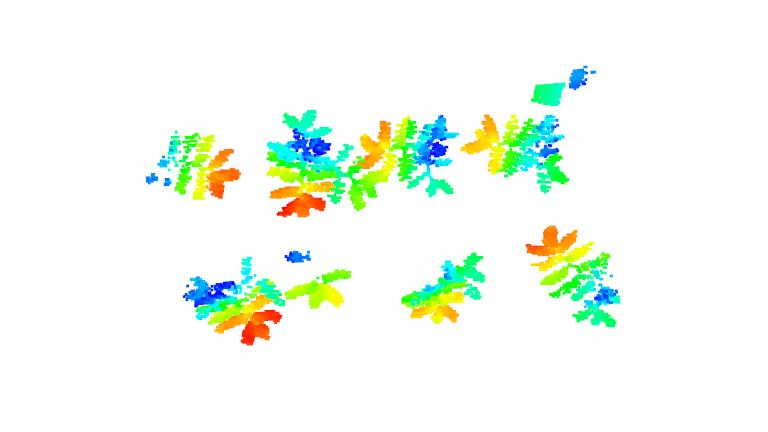chickpea: (264, 107, 368, 222), (525, 224, 623, 331), (183, 251, 283, 347), (460, 111, 570, 194), (358, 110, 459, 198), (145, 127, 242, 204), (401, 246, 487, 326), (281, 264, 355, 311)
